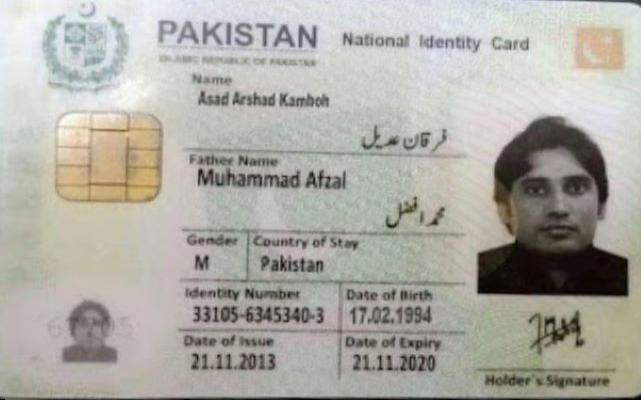fname: (192, 163, 348, 196)
name: (193, 86, 333, 114)
number: (190, 302, 328, 328)
